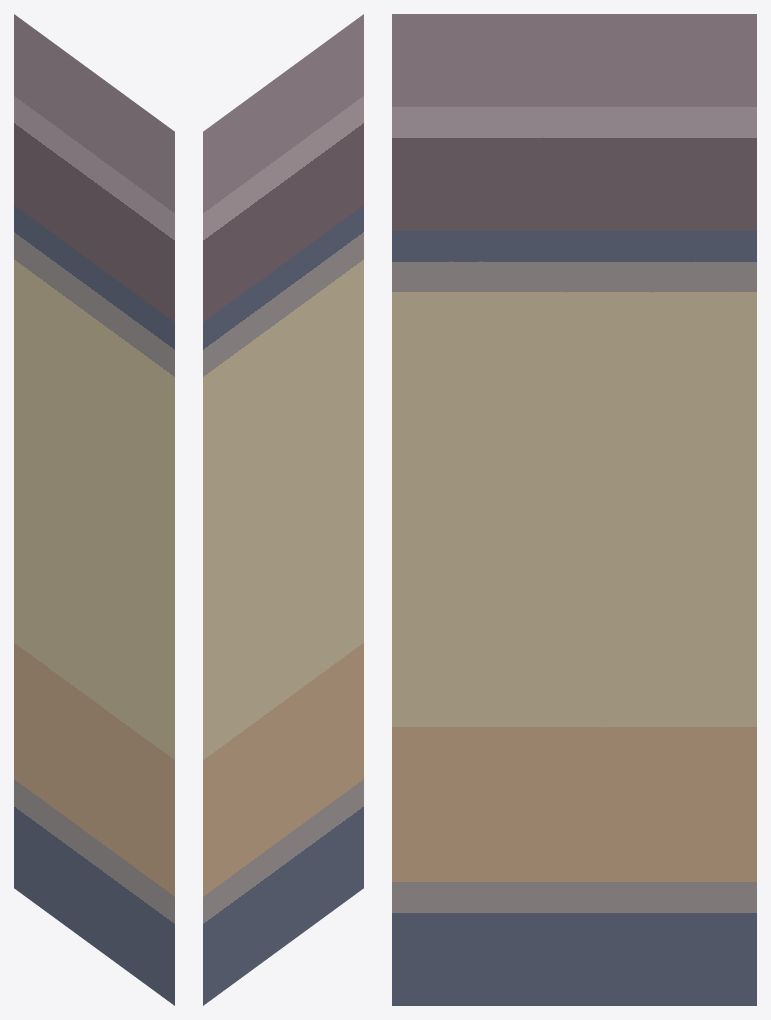
3 renders of one model, left to right at view 1: azimuth 30°, elevation 25°; view 2: azimuth 150°, elevation 25°; view 3: azimuth 270°, elevation 25°, orthographic. The views are drawn at different scales.
Size of the model in its own units: 0 by 3 by 1.
Materials: 1 (1 with a texture image).
